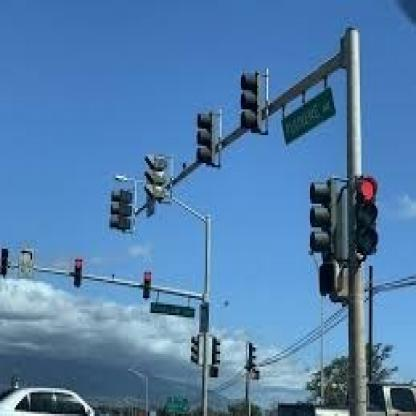Traffic Signal: (356, 174, 380, 251), (197, 111, 218, 165), (143, 272, 153, 300)
